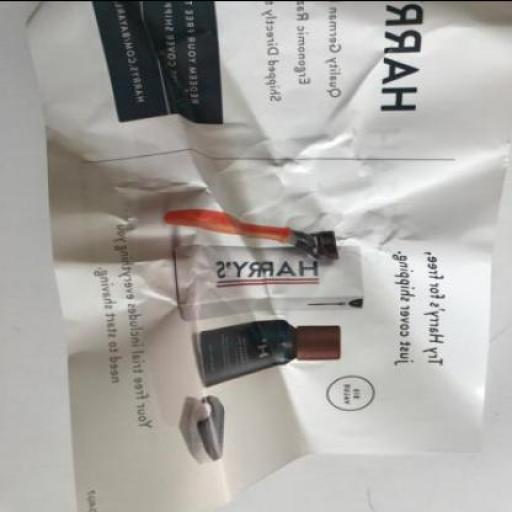paper: (24, 1, 512, 510)
